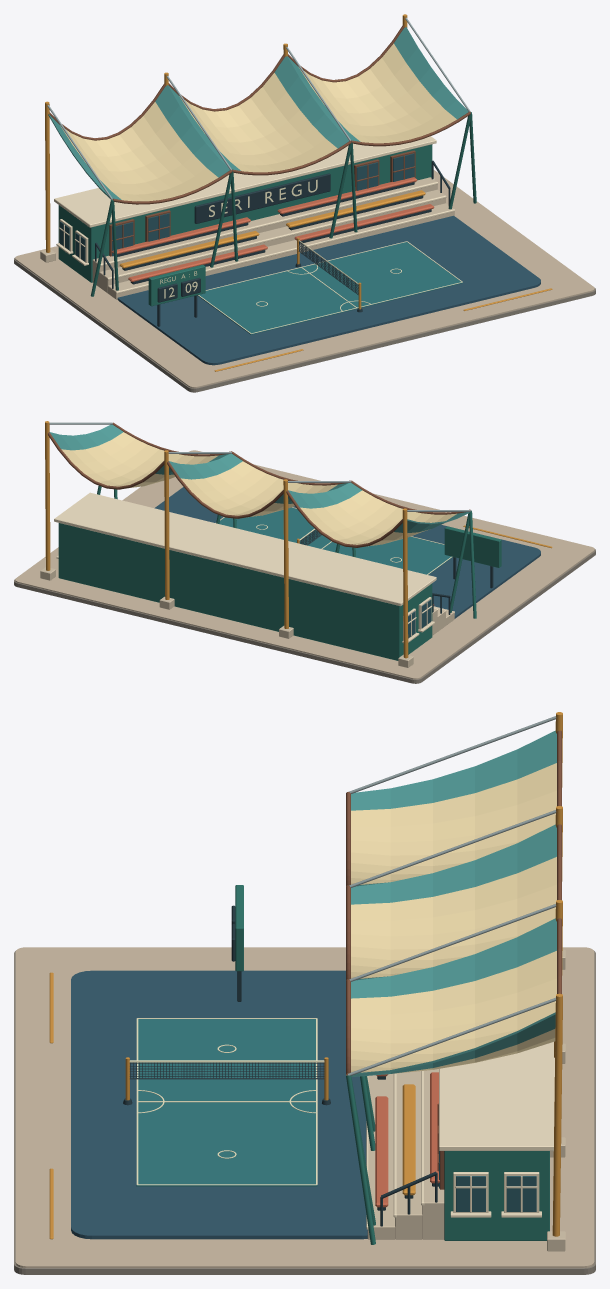
3 views of the same model, one above another, from view 1: azimuth 30°, elevation 25°; view 2: azimuth 150°, elevation 25°; view 3: azimuth 270°, elevation 25° (orthographic). The views are drawn at different scales.
Visible parts, largest first — view 1: Court Apron, Tensioned Shade Sails, Changing Pavilion, Spectator Terrace, Takraw Playing Lines, Woven Match Net; view 2: Changing Pavilion, Court Apron, Tensioned Shade Sails, Takraw Playing Lines, Spectator Terrace; view 3: Court Apron, Tensioned Shade Sails, Takraw Playing Lines, Changing Pavilion, Spectator Terrace, Woven Match Net.
Boxes of the visible parts, bbox=[...] form: Court Apron: bbox=[14, 170, 595, 392]; Tensioned Shade Sails: bbox=[40, 14, 476, 296]; Changing Pavilion: bbox=[54, 136, 436, 282]; Spectator Terrace: bbox=[92, 160, 454, 299]; Takraw Playing Lines: bbox=[197, 241, 463, 334]; Woven Match Net: bbox=[295, 237, 362, 312]; Changing Pavilion: bbox=[54, 492, 436, 660]; Court Apron: bbox=[14, 450, 595, 683]; Tensioned Shade Sails: bbox=[40, 421, 476, 667]; Takraw Playing Lines: bbox=[215, 507, 452, 574]; Spectator Terrace: bbox=[432, 593, 454, 635]; Court Apron: bbox=[14, 885, 595, 1274]; Tensioned Shade Sails: bbox=[346, 712, 565, 1251]; Takraw Playing Lines: bbox=[136, 1018, 317, 1186]; Changing Pavilion: bbox=[437, 1042, 554, 1240]; Spectator Terrace: bbox=[366, 1069, 444, 1239]; Woven Match Net: bbox=[123, 1057, 330, 1105].
Size of the model in its own units: 25.8 by 9.77 by 19.8.
